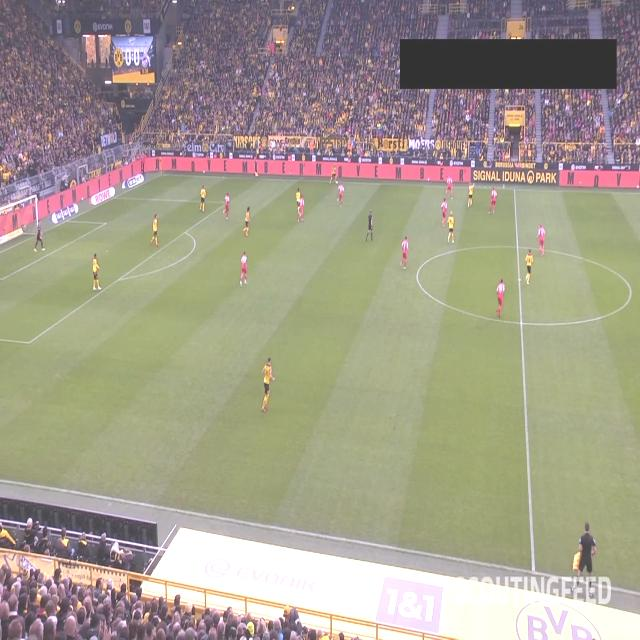f_player: (260, 358, 274, 414), (443, 168, 457, 208), (329, 162, 345, 192), (436, 194, 450, 228), (90, 253, 102, 291), (465, 178, 478, 210), (497, 280, 507, 318), (523, 250, 533, 284), (240, 252, 250, 286), (538, 223, 548, 256), (152, 213, 162, 245), (294, 191, 304, 223), (401, 235, 411, 267), (242, 208, 252, 238), (446, 214, 456, 244), (336, 180, 346, 210), (36, 224, 46, 250), (200, 185, 208, 212), (224, 193, 232, 220), (490, 188, 498, 214)
umpire: (566, 514, 608, 592), (366, 213, 376, 243)
